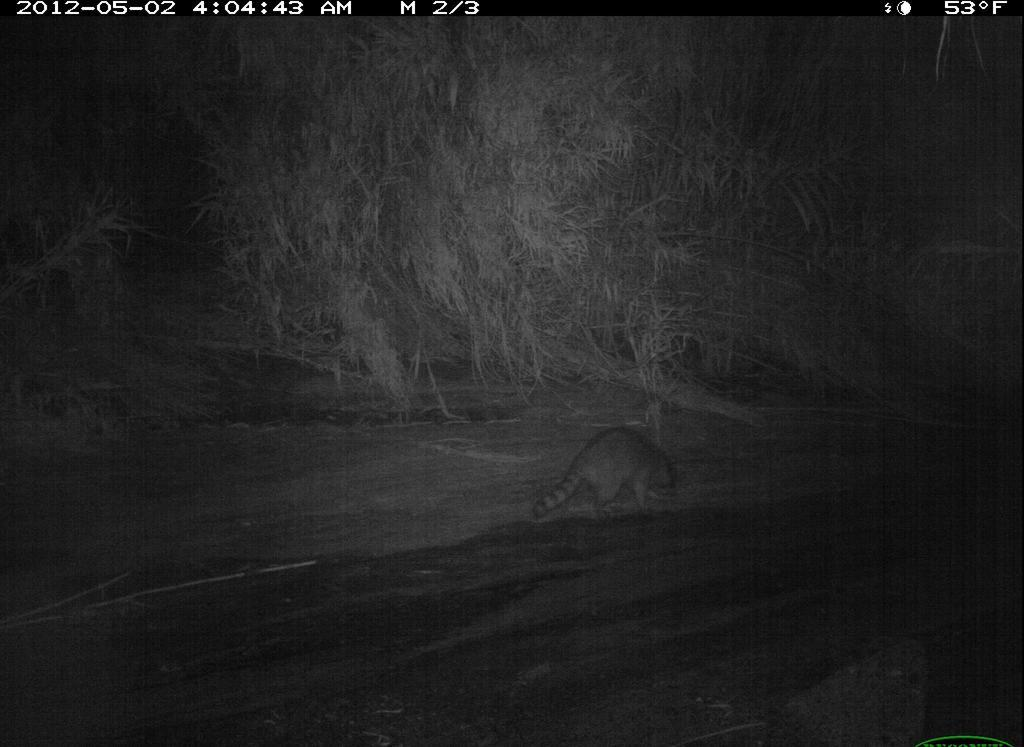raccoon: (529, 422, 685, 529)
